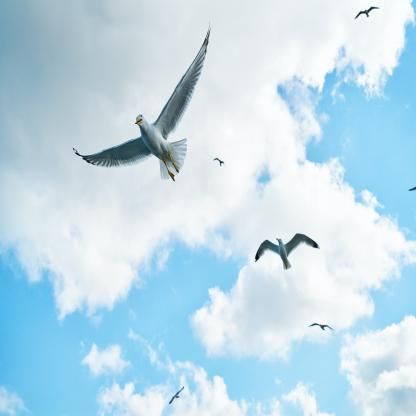bird: (73, 26, 211, 184), (254, 233, 320, 271), (354, 6, 380, 20), (168, 386, 183, 406), (308, 323, 335, 332), (213, 158, 227, 168)
